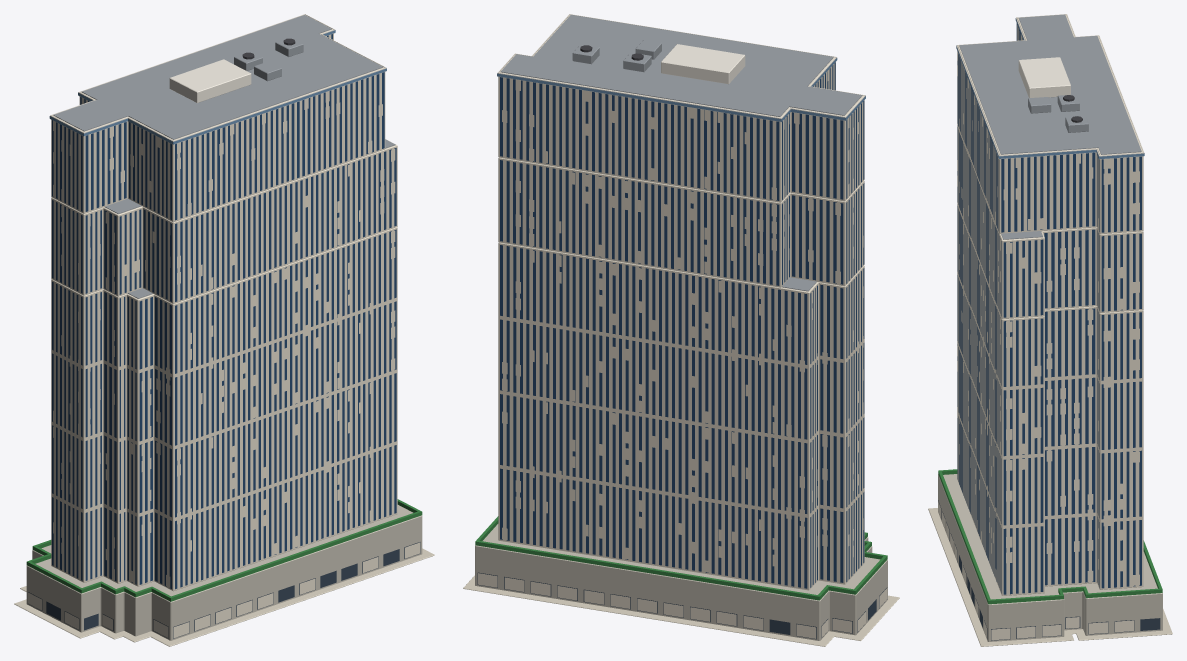
The model's file is embarcadero-center-2.glb.
3 views of the same model, side by side, from view 1: azimuth 30°, elevation 25°; view 2: azimuth 150°, elevation 25°; view 3: azimuth 270°, elevation 25° (orthographic). The views are drawn at different scales.
Parts seen in each view (by area): view 1: embarcadero-center-2_body, embarcadero-center-2_night_glow; view 2: embarcadero-center-2_body, embarcadero-center-2_night_glow; view 3: embarcadero-center-2_body, embarcadero-center-2_night_glow.
Boxes of the visible parts, x1,y1,x2,y2 form: embarcadero-center-2_body: (14, 14, 434, 646); embarcadero-center-2_night_glow: (28, 30, 420, 638); embarcadero-center-2_body: (463, 14, 899, 646); embarcadero-center-2_night_glow: (478, 58, 887, 638); embarcadero-center-2_body: (928, 14, 1172, 646); embarcadero-center-2_night_glow: (938, 18, 1144, 640).
Bounding box in the file's own units: 96.03 × 126 × 57.68.
